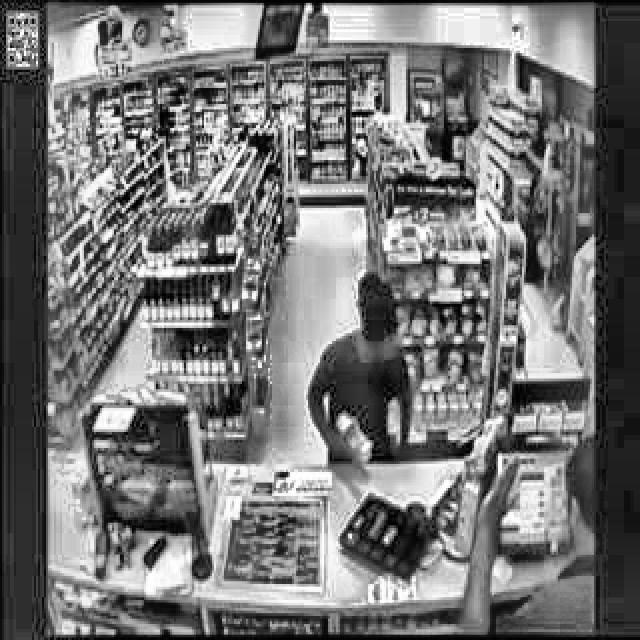robbery: (458, 433, 594, 632), (302, 273, 423, 490)
